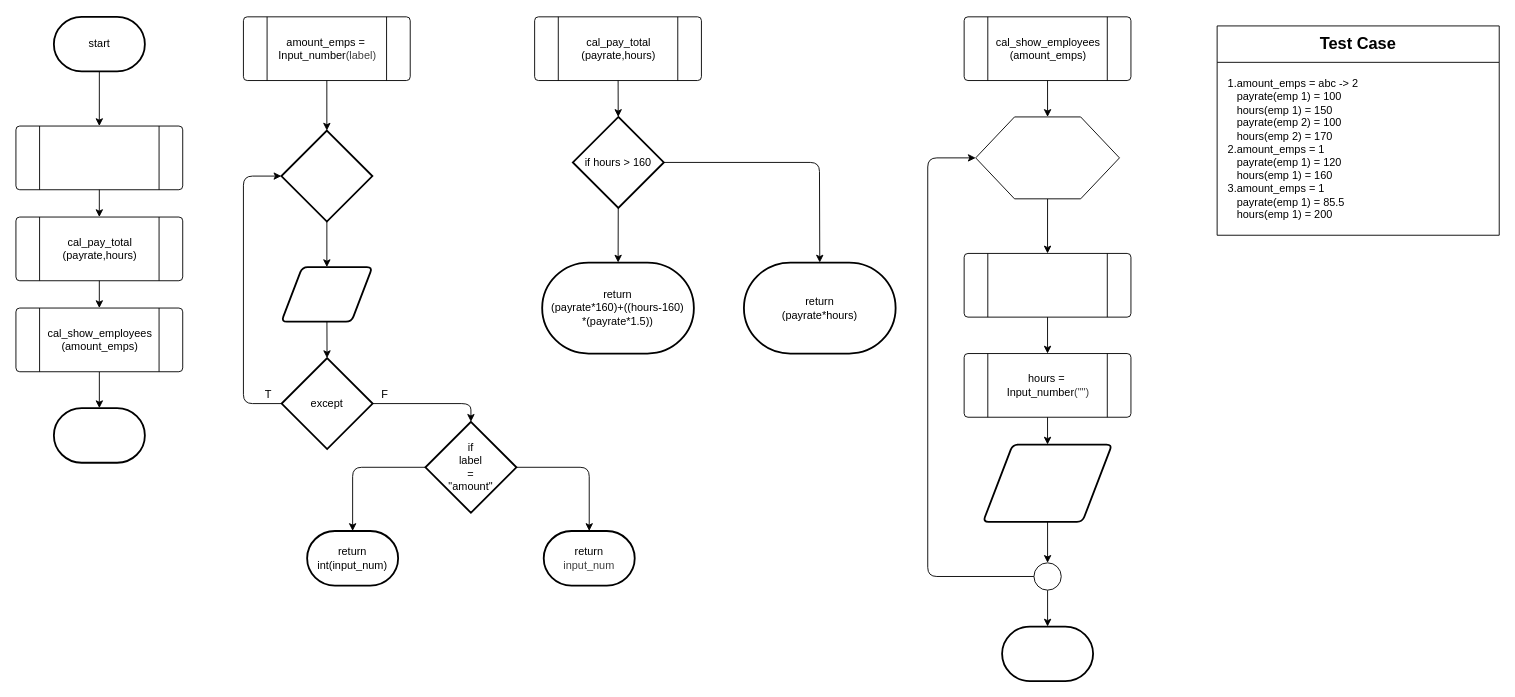
The diagram is 1515 pixels wide and 697 high, and some of its shapes have lost their labels. Here are the shapes that lost their labels. From the top down, the centre of each, then its label:
(x=99, y=157): amount_emps = Input_number ()
(x=326, y=175): while True
(x=1047, y=157): i 0 amount_emps 1
(x=326, y=294): Try read float input_num
(x=1047, y=285): pat_rate = Input_number ("")
(x=99, y=435): stop
(x=1047, y=482): print cal_pay_total (payrate,hours)
(x=1047, y=653): return
